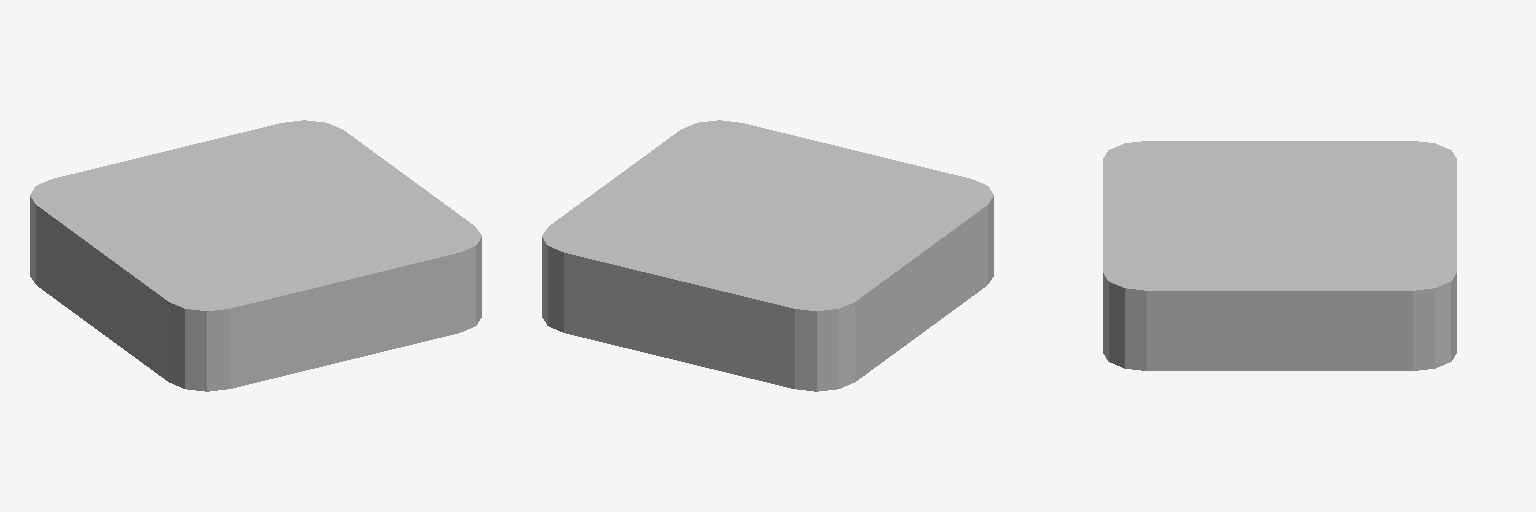
The model's file is letterWood.obj.
3 views of the same model, side by side, from view 1: azimuth 30°, elevation 25°; view 2: azimuth 150°, elevation 25°; view 3: azimuth 270°, elevation 25° (orthographic).
Visible parts, largest first — view 1: Cube; view 2: Cube; view 3: Cube.
Boxes of the visible parts, x1,y1,x2,y2 form: Cube: [30, 120, 481, 391]; Cube: [542, 120, 993, 391]; Cube: [1103, 141, 1456, 370].
Size of the model in its own units: 1 by 0.25 by 1.